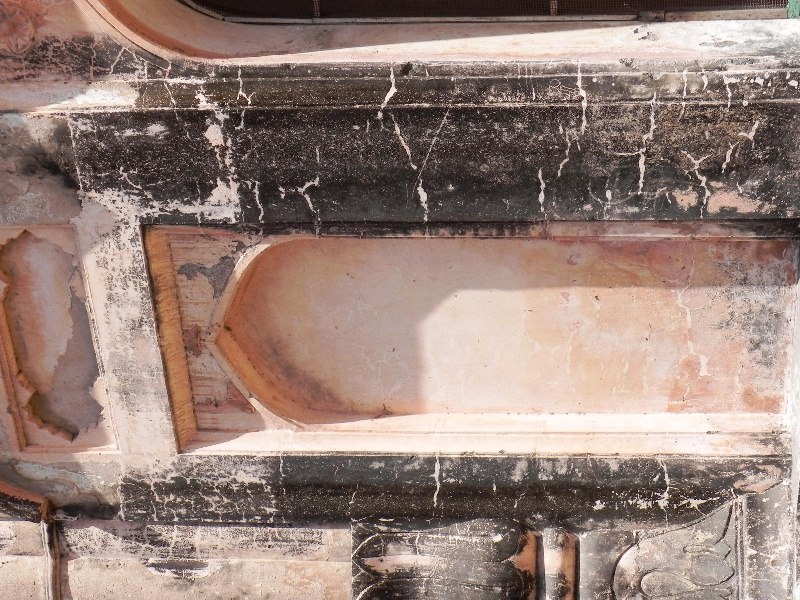Spalling: (176, 238, 247, 305)
